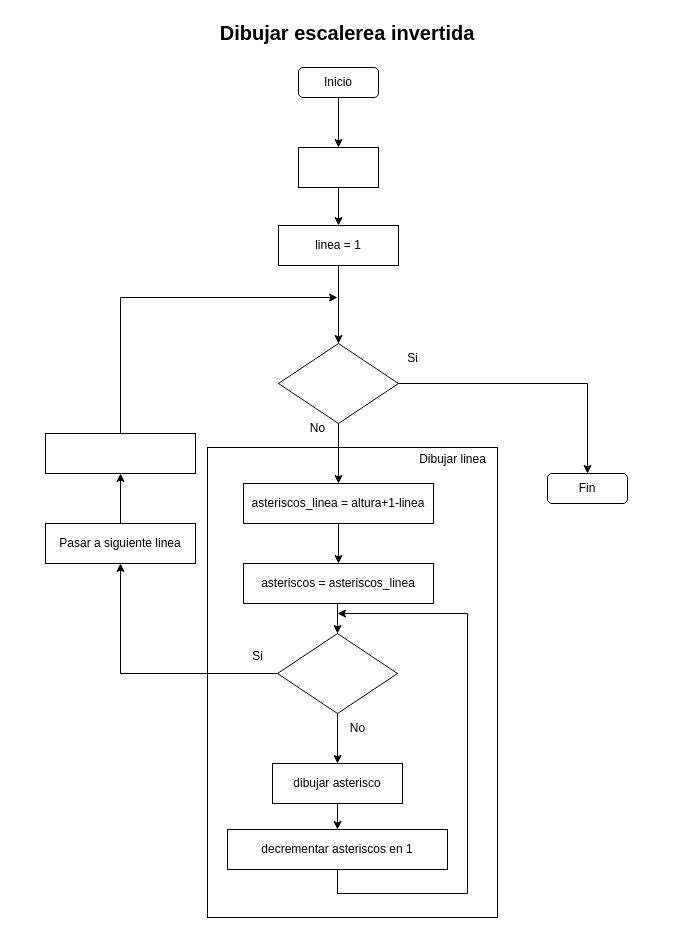
Image size: 694x935. Some labels were removed from this diagram. Here are the shapes that lost their labels. From the top down, the centre of each, then its label:
point (338, 167): Leer altura
point (338, 383): ¿linea > altura?
point (120, 453): incrementar linea en 1
point (337, 673): ¿asteriscos=0?
